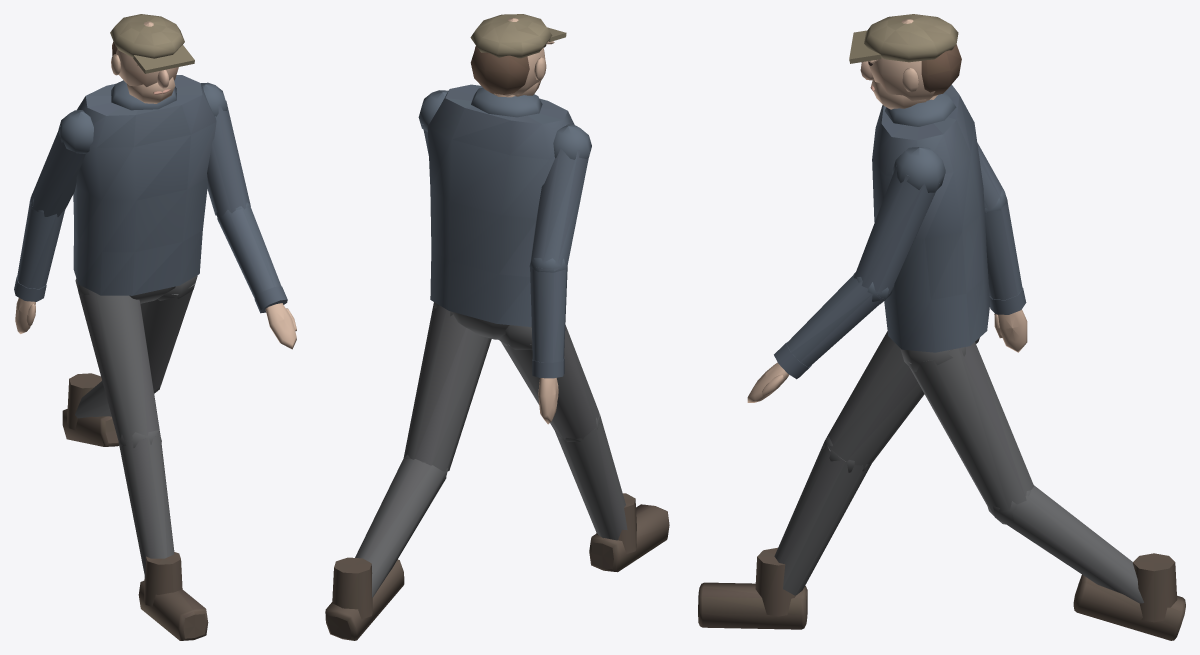
The model's file is crowd_walk_a_b.glb.
The picture shows the model from 3 angles, left to right: view 1: azimuth 30°, elevation 25°; view 2: azimuth 150°, elevation 25°; view 3: azimuth 270°, elevation 25°; orthographic projection. The views are drawn at different scales.
Visible parts, largest first — view 1: body; view 2: body; view 3: body.
Boxes of the visible parts, x1=… form: body: x1=14, y1=14, x2=296, y2=640; body: x1=325, y1=14, x2=669, y2=640; body: x1=698, y1=14, x2=1185, y2=640.
Bounding box in the file's own units: 0.5445 × 1.59 × 1.12.
